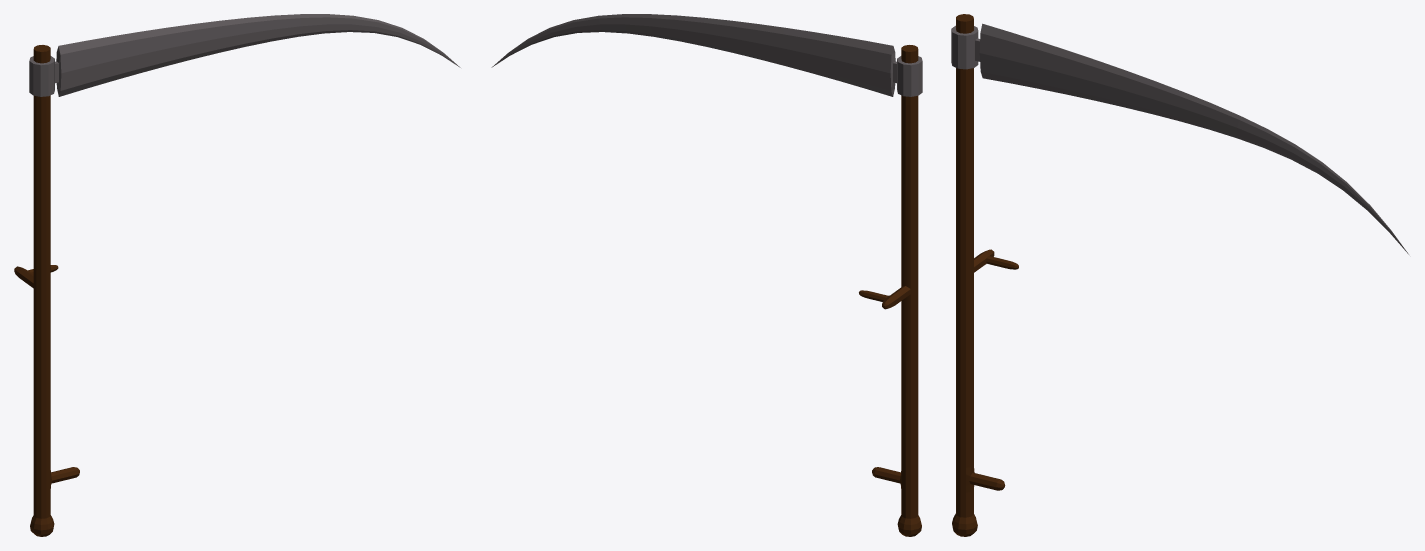
File: Scythe.fbx
3 renders of one model, left to right at view 1: azimuth 30°, elevation 25°; view 2: azimuth 150°, elevation 25°; view 3: azimuth 330°, elevation 25°, orthographic. The views are drawn at different scales.
Parts seen in each view (by area): view 1: pCylinder3; view 2: pCylinder3; view 3: pCylinder3.
Boxes of the visible parts, box(x1,y1,x2,y2) form: pCylinder3: box(14, 14, 460, 536); pCylinder3: box(491, 14, 922, 536); pCylinder3: box(951, 14, 1408, 536).
Bounding box in the file's own units: 63.22 × 68.15 × 8.23.
